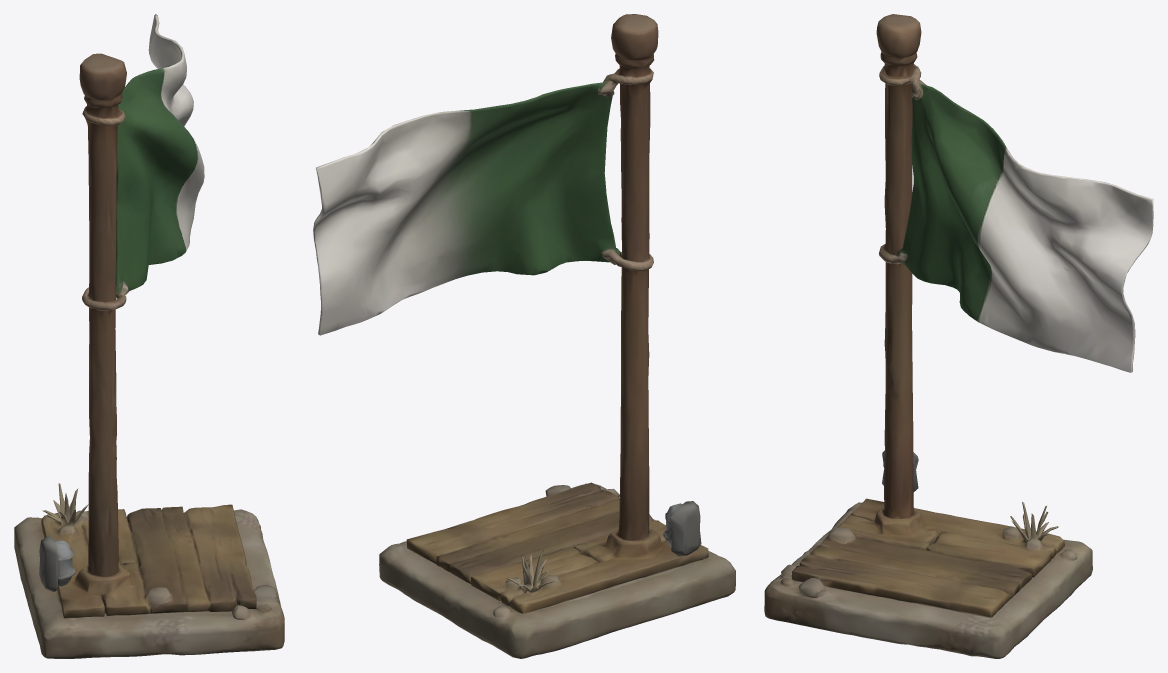
Rendered from panel_flag.glb.
3 renders of one model, left to right at view 1: azimuth 30°, elevation 25°; view 2: azimuth 150°, elevation 25°; view 3: azimuth 270°, elevation 25°, orthographic. The views are drawn at different scales.
Visible parts, largest first — view 1: tripo_node_ec06983c-2a5c-472a-b78e-713a17705a0b; view 2: tripo_node_ec06983c-2a5c-472a-b78e-713a17705a0b; view 3: tripo_node_ec06983c-2a5c-472a-b78e-713a17705a0b.
Boxes of the visible parts, x1,y1,x2,y2 form: tripo_node_ec06983c-2a5c-472a-b78e-713a17705a0b: (14, 14, 284, 658); tripo_node_ec06983c-2a5c-472a-b78e-713a17705a0b: (313, 14, 735, 658); tripo_node_ec06983c-2a5c-472a-b78e-713a17705a0b: (764, 14, 1153, 658).
Size of the model in its own units: 0.5233 by 1 by 0.6462.
1 material, 1 textured.
